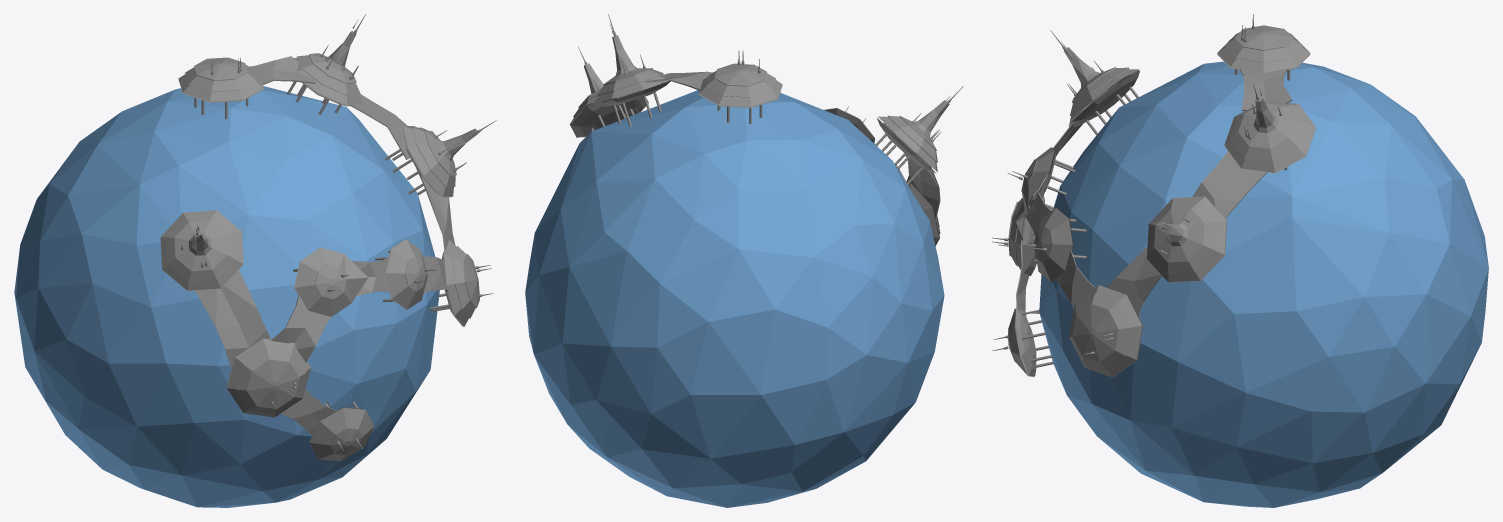
The model's file is kamino_zoom.dae.
The picture shows the model from 3 angles, left to right: view 1: azimuth 30°, elevation 25°; view 2: azimuth 150°, elevation 25°; view 3: azimuth 270°, elevation 25°; orthographic projection. The views are drawn at different scales.
Parts seen in each view (by area): view 1: kamino; view 2: kamino; view 3: kamino.
Boxes of the visible parts, x1=… form: kamino: x1=14, y1=14, x2=496, y2=507; kamino: x1=525, y1=14, x2=963, y2=507; kamino: x1=992, y1=14, x2=1488, y2=507.
Size of the model in its own units: 6.5 by 6.62 by 6.95.
